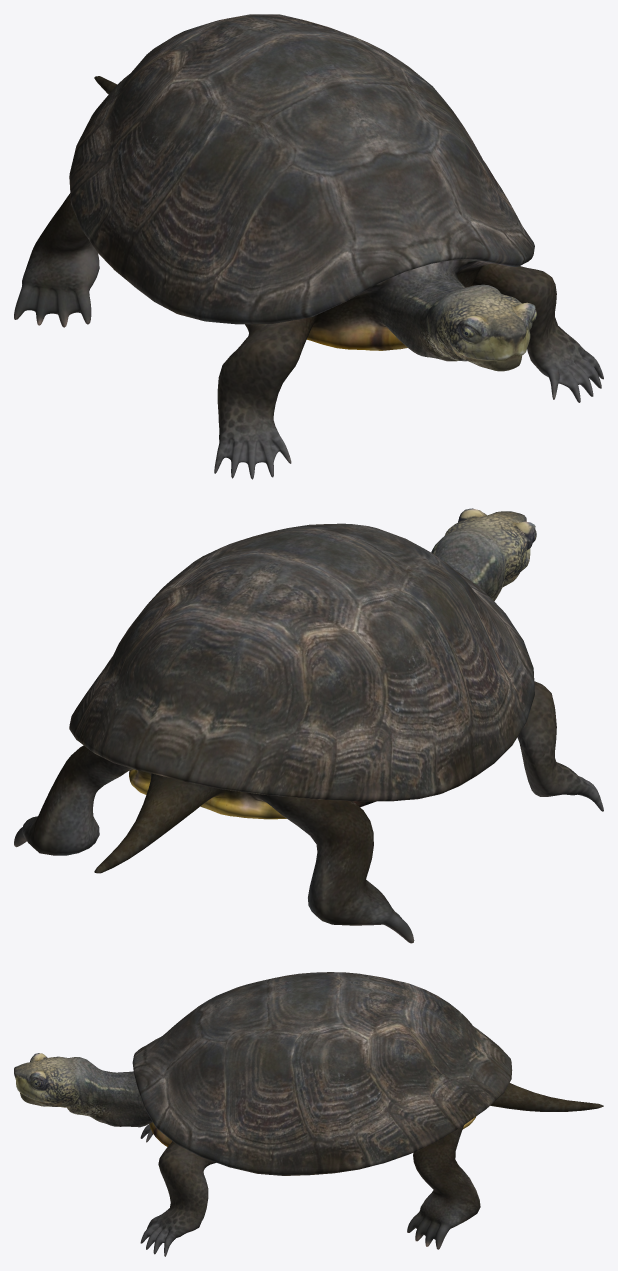
The model's file is kura1.glb.
3 views of the same model, one above another, from view 1: azimuth 30°, elevation 25°; view 2: azimuth 150°, elevation 25°; view 3: azimuth 270°, elevation 25° (orthographic). The views are drawn at different scales.
Visible parts, largest first — view 1: 13102_pondturtle_v1_l2; view 2: 13102_pondturtle_v1_l2; view 3: 13102_pondturtle_v1_l2.
Boxes of the visible parts, x1,y1,x2,y2 form: 13102_pondturtle_v1_l2: (14,14,603,479); 13102_pondturtle_v1_l2: (14,508,603,943); 13102_pondturtle_v1_l2: (14,972,603,1256).
Size of the model in its own units: 2.32 by 1.67 by 4.25.
1 material, 1 textured.
